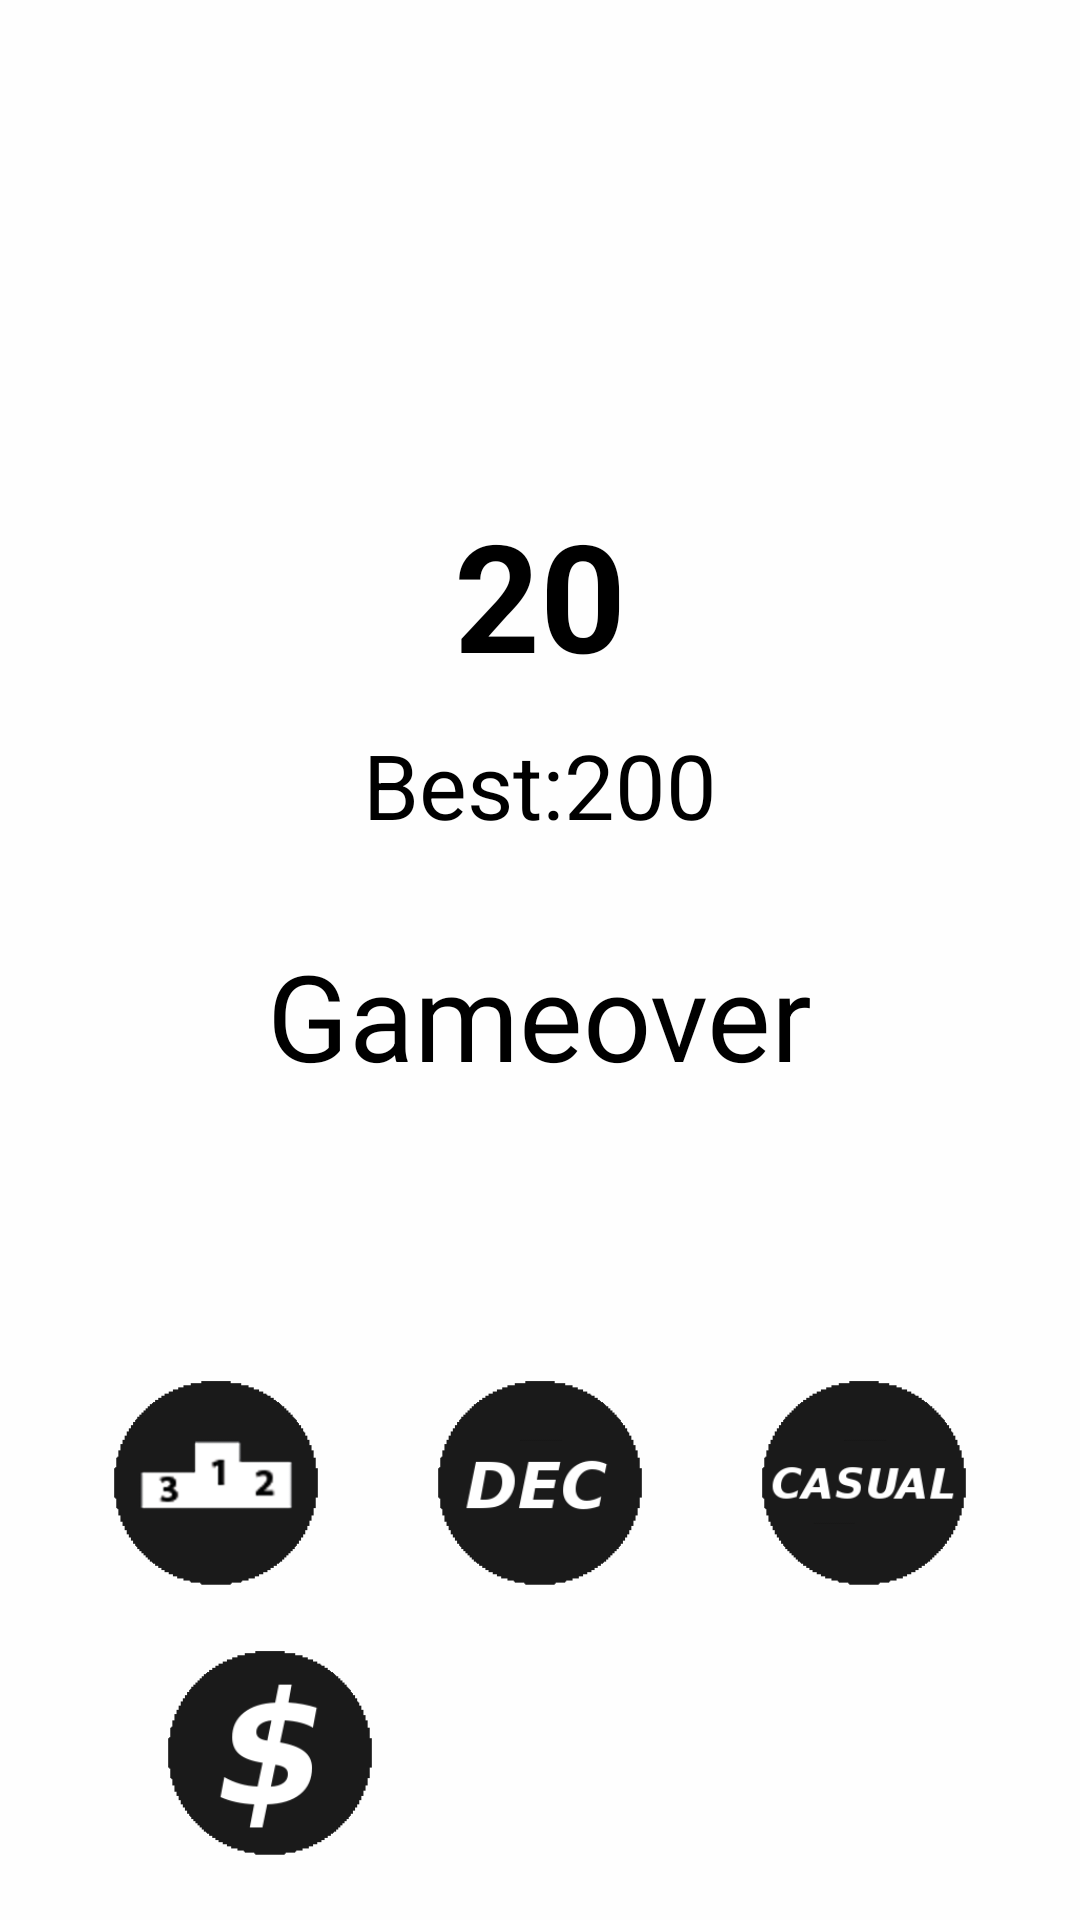

Named icons in this screenshot (1080x1920) and their centers, (x=x, y=y):
donate: (x=270, y=1753)
leaderboard: (x=216, y=1483)
